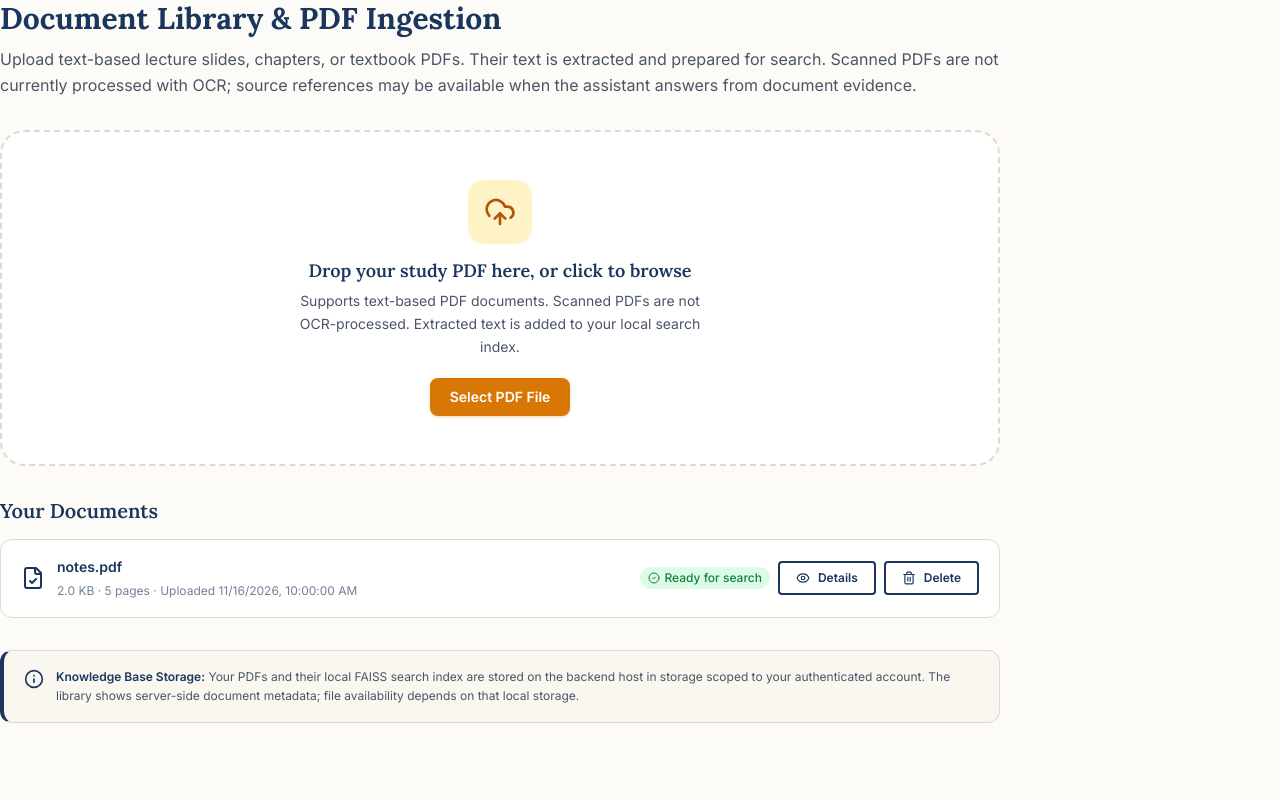
DocumentLibraryPage › failed deletion keeps the document visible and reports the error
Expected: the text "notes.pdf" is shown, [57,558,122,575]
Click the button with aria-label "Delete notes.pdf" at point(931, 578), box [884,561,979,595]
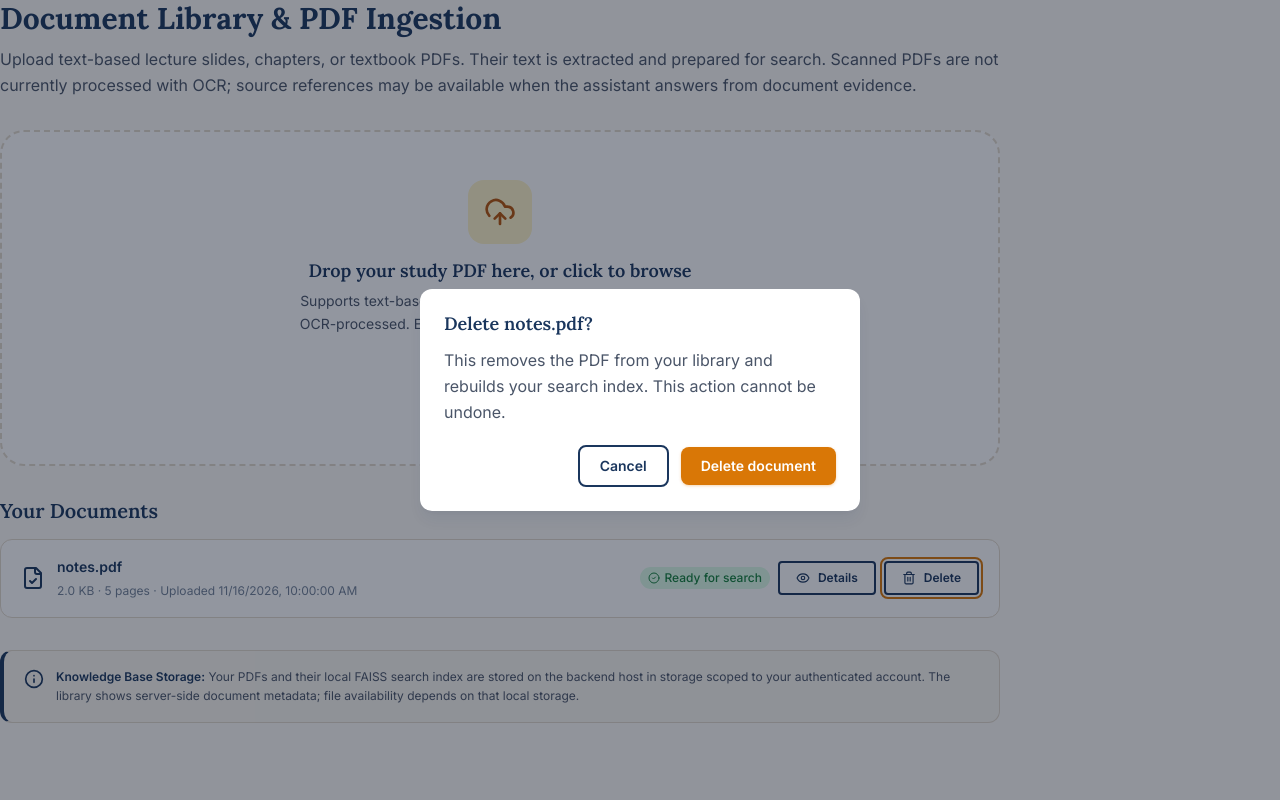
Click the button "Delete document" at point(758, 466), box [681,447,836,485]
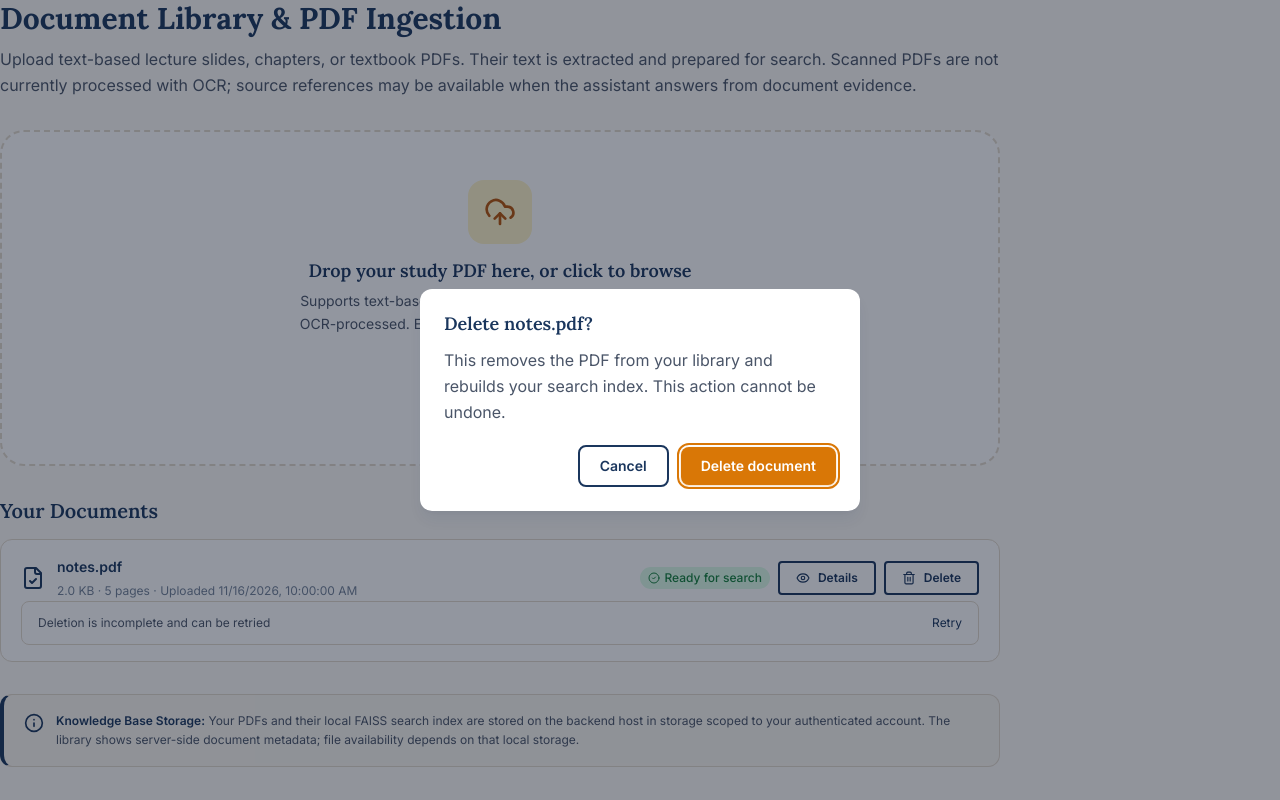
Expected: the text "notes.pdf" is shown, [57,558,122,575]
Expected: the message shows "Deletion is incomplete", [38,614,270,630]
